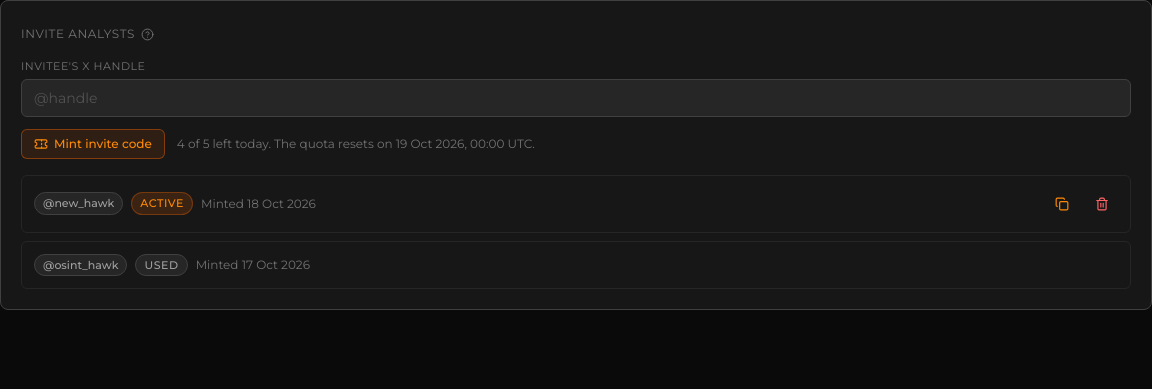
InviteAnalystsCard › shows a refused revoke in the error banner
The image size is (1152, 389).
Click the button named "Revoke the invite code for @new_hawk" at (1102, 204), box [1086, 188, 1118, 220]
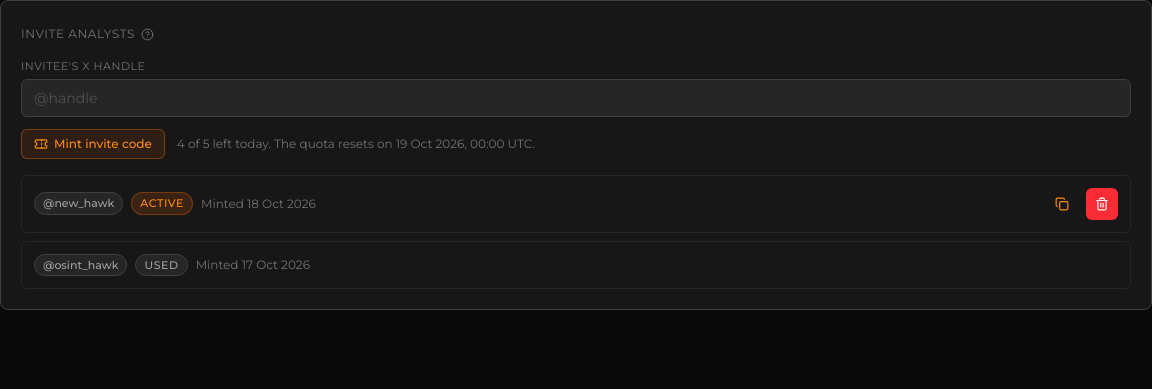
Click the button named "Confirm revoke the invite code for @new_hawk" at (1102, 204), box [1086, 188, 1118, 220]
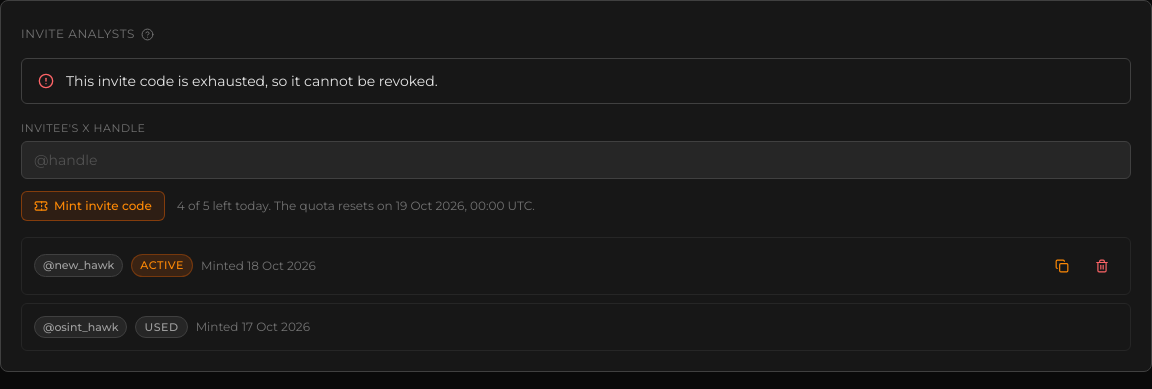
Now the text "This invite code is exhausted, so it cannot be revoked." is shown, box [66, 72, 438, 90]
